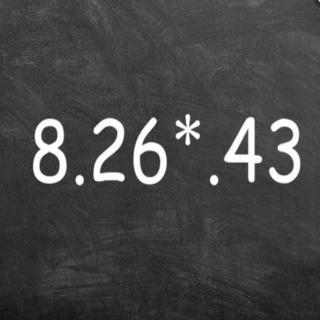.: (73, 172, 87, 187), (208, 170, 221, 186)
2: (91, 116, 128, 188)
3: (264, 115, 304, 186)
4: (222, 114, 263, 185)
6: (132, 114, 168, 187)
8: (32, 114, 68, 186)
